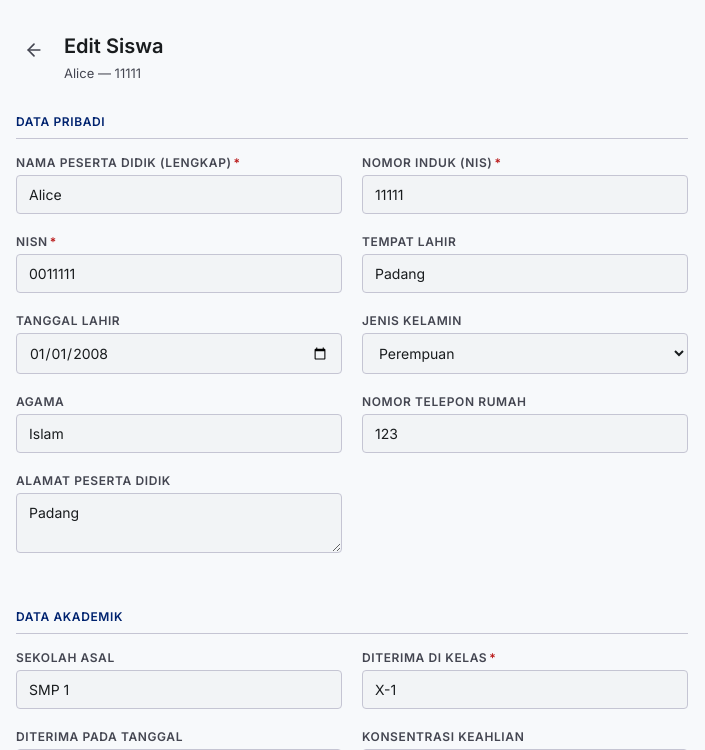
it: Edit Student Page › clears validation errors when field values are corrected
Expected: the heading "Edit Siswa" is shown, [64,32,163,60]
Clear required fields to trigger error
Clear the field below "Nama Peserta Didik (Lengkap)" at (179, 194), box [16,175,342,214]
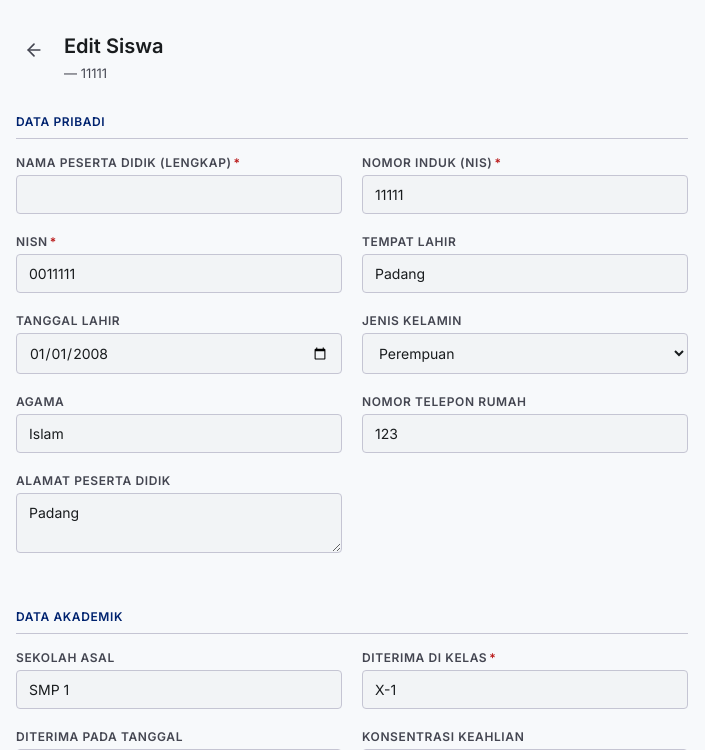
Clear the field below "Nomor Induk (NIS)" at (525, 194), box [362,175,688,214]
(page scrolled)
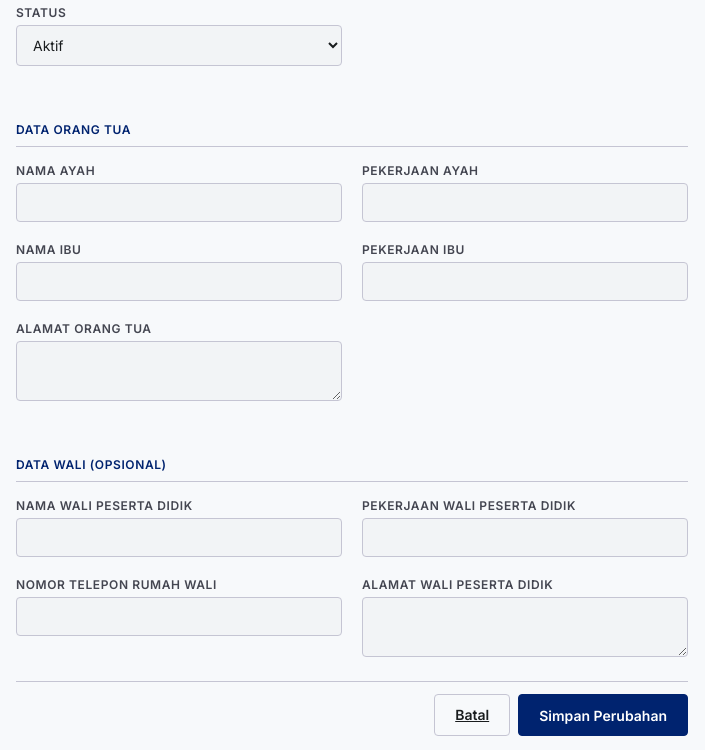
Click the button "Simpan Perubahan".
click(603, 715)  # box [518,694,688,736]
(page scrolled)
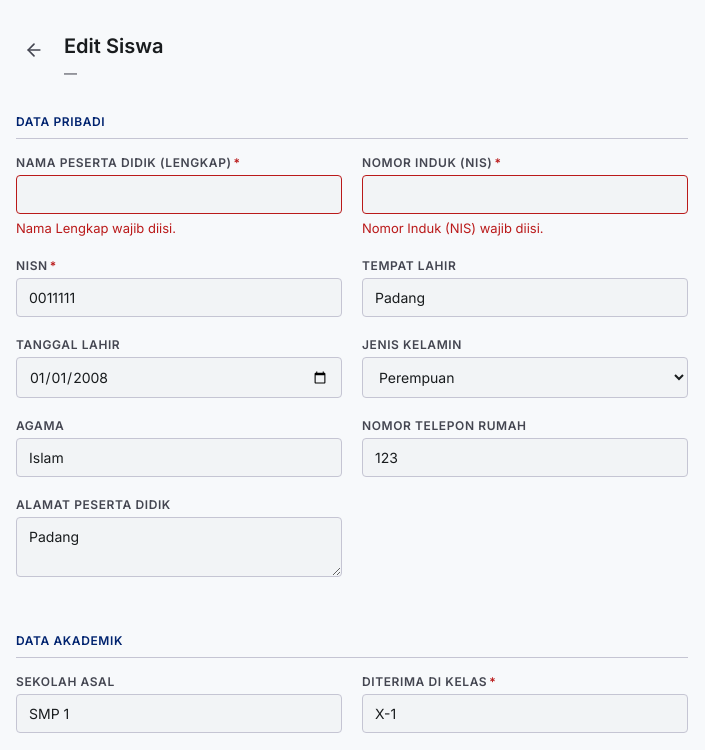
Result: the text "Nomor Induk (NIS) wajib diisi." is shown at [362,220,544,236]
Result: the text "Nama Lengkap wajib diisi." is shown at [16,220,176,236]
Type in NIS to clear NIS error
Type "11111" into the 2nd field.
click(525, 194); type("11111")  # box [362,175,688,214]
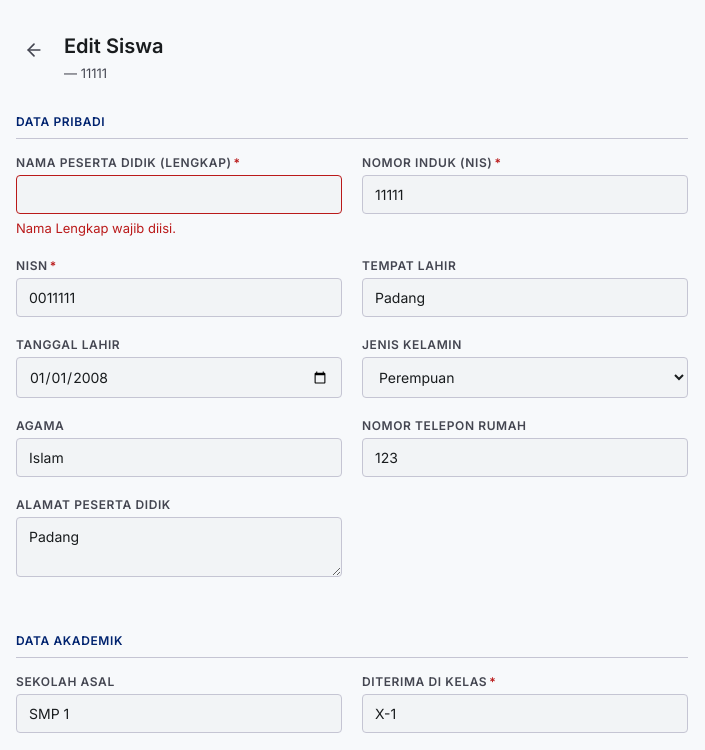
Result: the text "Nama Lengkap wajib diisi." is shown at [16,220,176,236]
Result: the text "Nomor Induk (NIS) wajib diisi." is gone
Type in Nama to clear Nama error
Type "Alice" into the field below "Nama Peserta Didik (Lengkap)".
click(179, 194); type("Alice")  # box [16,175,342,214]
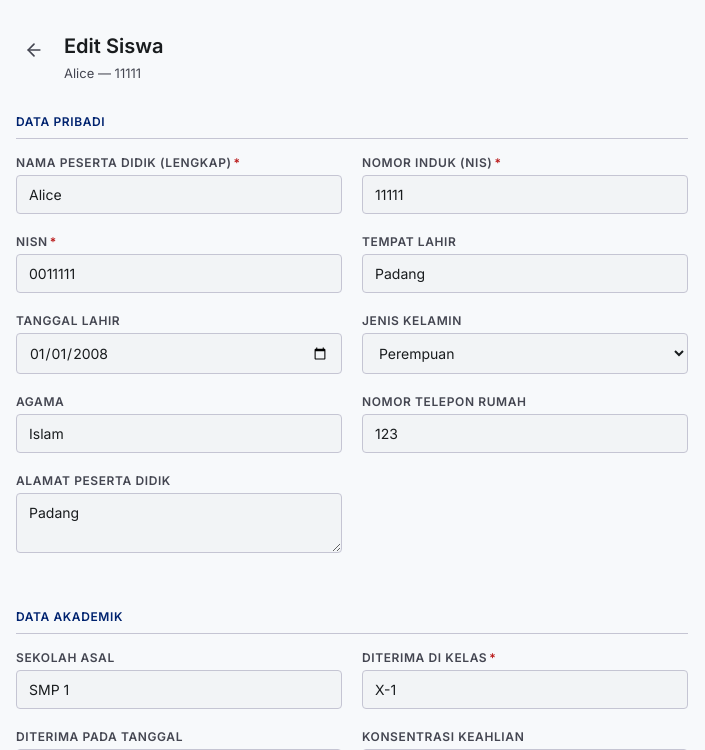
Result: the text "Nama Lengkap wajib diisi." is gone
